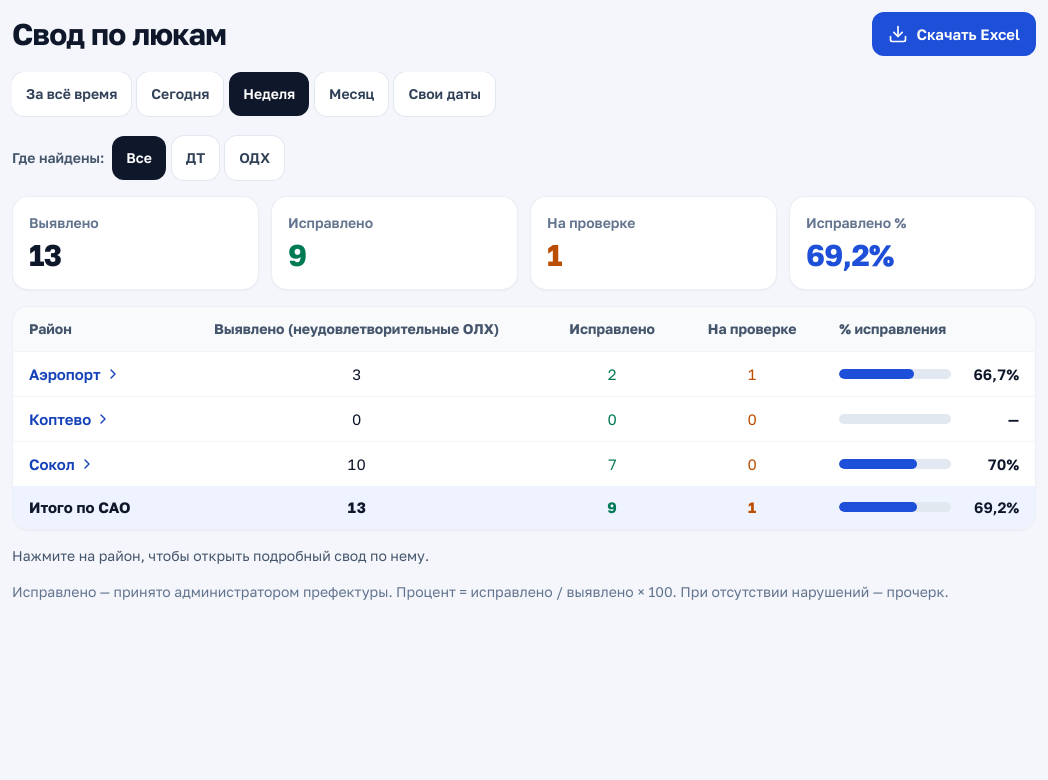
Test case: SummaryPage › префектура открывает подробный свод района с тем же периодом и возвращается к таблице
Click the link "Сокол".
click(62, 464)  # box [29, 455, 95, 473]
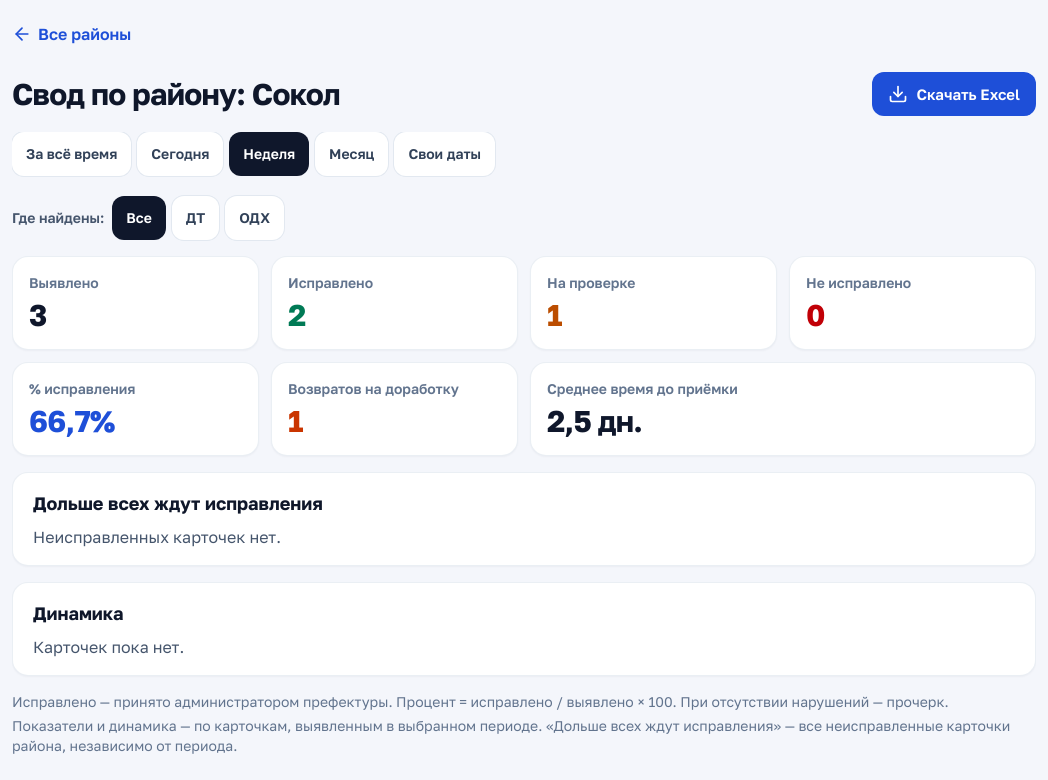
Now the heading "Свод по району: Сокол" is shown, box [12, 76, 340, 112]
Click the link "Все районы".
click(72, 34)  # box [12, 24, 131, 44]
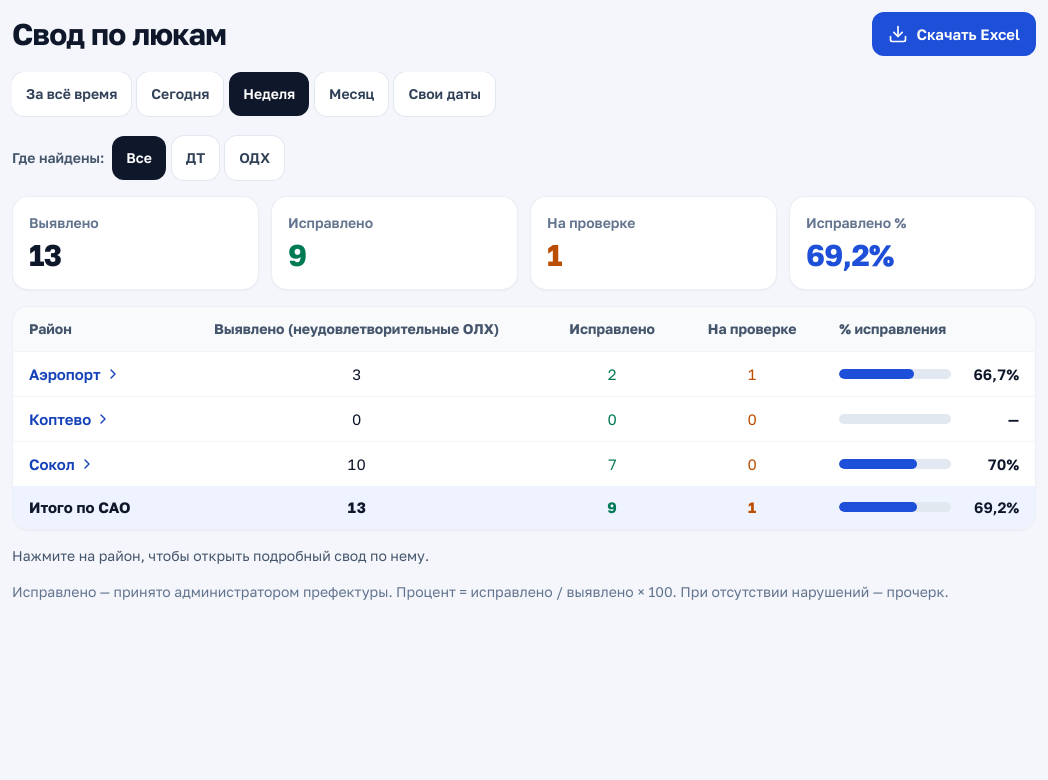
Now the table is shown, box [13, 307, 1035, 528]
